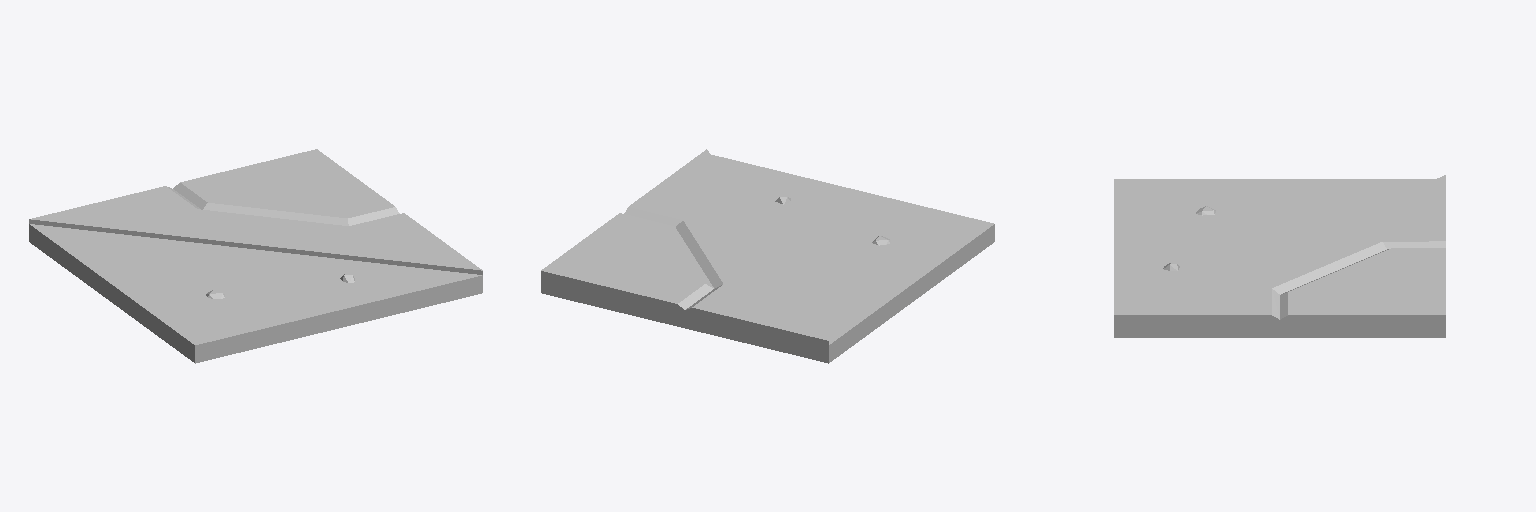
The model's file is floor_dirt_small_corner.obj.
3 renders of one model, left to right at view 1: azimuth 30°, elevation 25°; view 2: azimuth 150°, elevation 25°; view 3: azimuth 270°, elevation 25°, orthographic.
Visible parts, largest first — view 1: floor_dirt_small_corner; view 2: floor_dirt_small_corner; view 3: floor_dirt_small_corner.
Boxes of the visible parts, <box> form: floor_dirt_small_corner: <box>29,149,482,363</box>; floor_dirt_small_corner: <box>541,149,994,363</box>; floor_dirt_small_corner: <box>1114,175,1445,337</box>.
Bounding box in the file's own units: 2 × 0.1538 × 2.